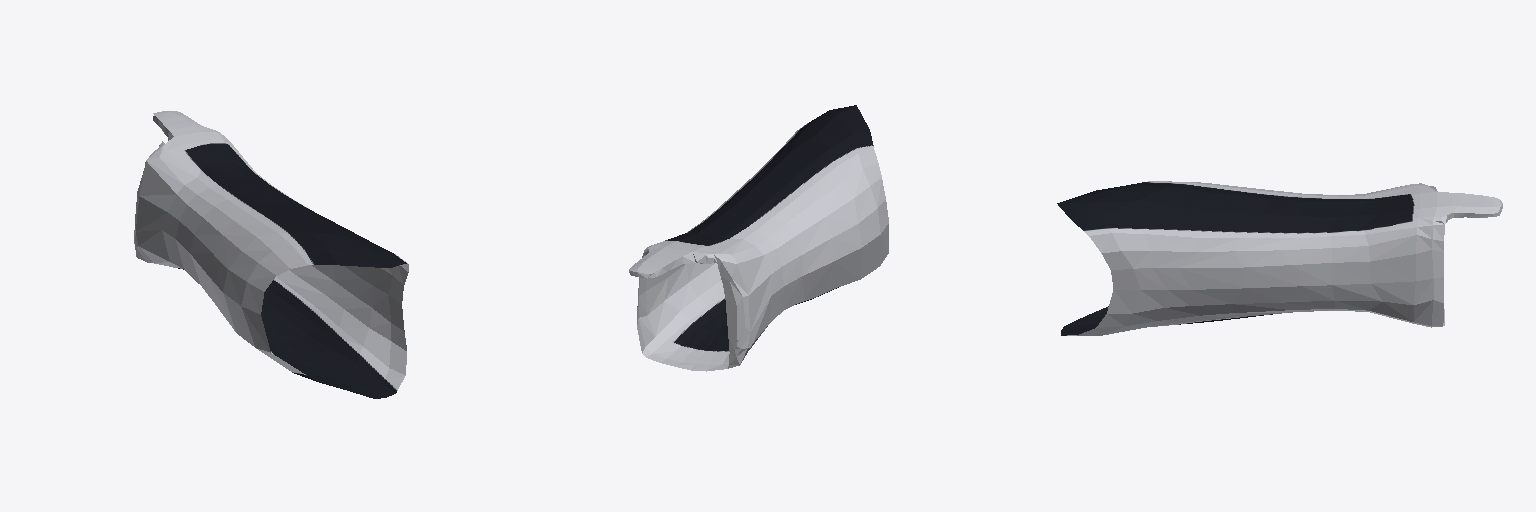
3 renders of one model, left to right at view 1: azimuth 30°, elevation 25°; view 2: azimuth 150°, elevation 25°; view 3: azimuth 270°, elevation 25°, orthographic.
Visible parts, largest first — view 1: L_KNEE_P-462-FACES; view 2: L_KNEE_P-462-FACES; view 3: L_KNEE_P-462-FACES.
Part boxes in pixels (bbox=[...]): L_KNEE_P-462-FACES: bbox=[134, 111, 408, 398]; L_KNEE_P-462-FACES: bbox=[629, 105, 888, 371]; L_KNEE_P-462-FACES: bbox=[1057, 181, 1502, 335].
Bounding box in the file's own units: 0.1075 × 0.1075 × 0.3259.
Materials: 1 (1 with a texture image).